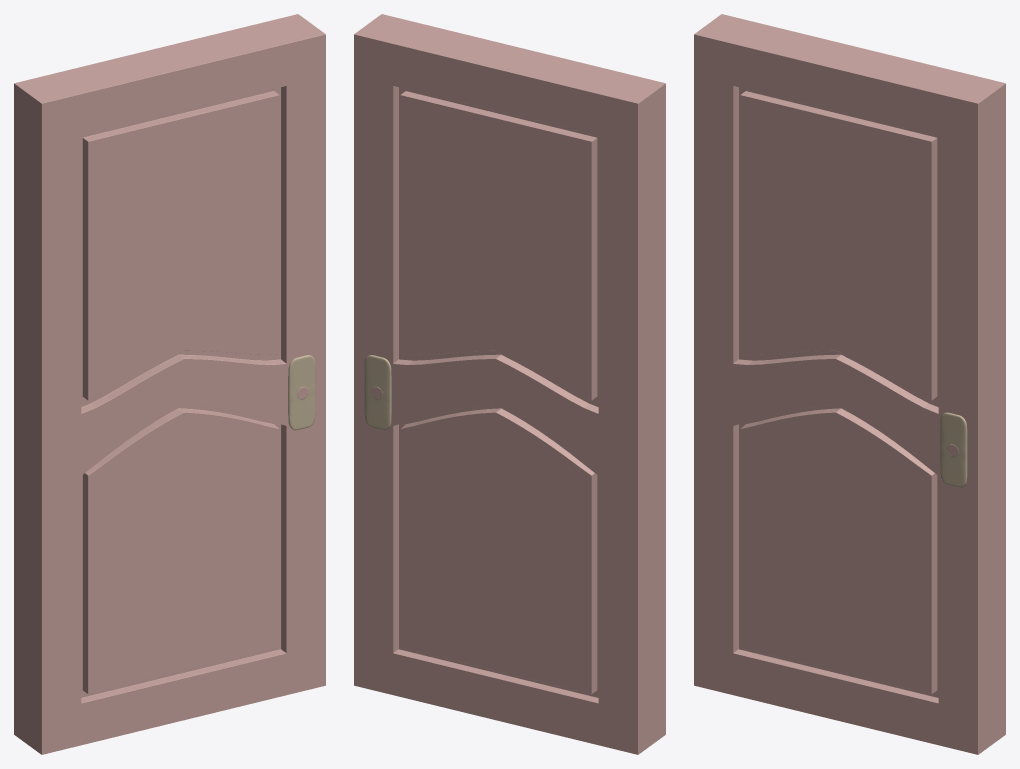
The model's file is door.fbx.
3 renders of one model, left to right at view 1: azimuth 30°, elevation 25°; view 2: azimuth 150°, elevation 25°; view 3: azimuth 330°, elevation 25°, orthographic.
Visible parts, largest first — view 1: Plane, Plane.003; view 2: Plane, Plane.003; view 3: Plane, Plane.003.
Boxes of the visible parts, box(x1,y1,x2,y2) form: Plane: box(14, 14, 325, 754); Plane.003: box(288, 355, 315, 430); Plane: box(354, 14, 665, 754); Plane.003: box(364, 355, 391, 430); Plane: box(694, 14, 1005, 754); Plane.003: box(940, 412, 967, 487).
Bounding box in the file's own units: 1188 × 2601 × 218.
